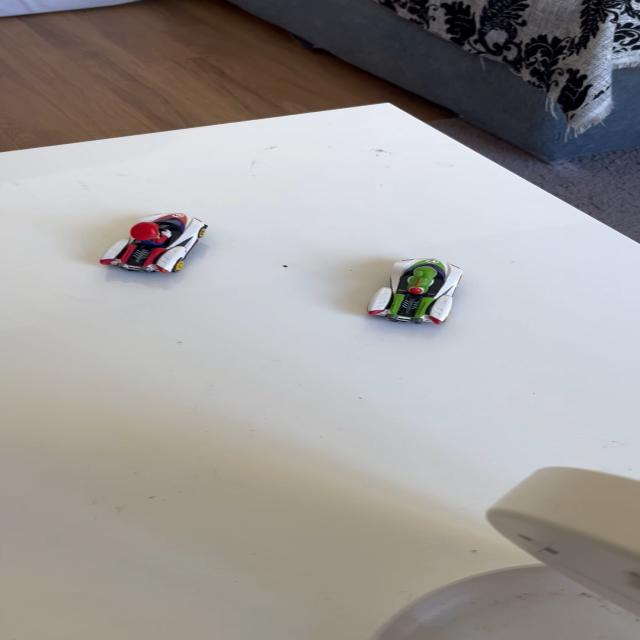mario: (80, 205, 222, 282)
yoshi: (348, 250, 474, 332)
